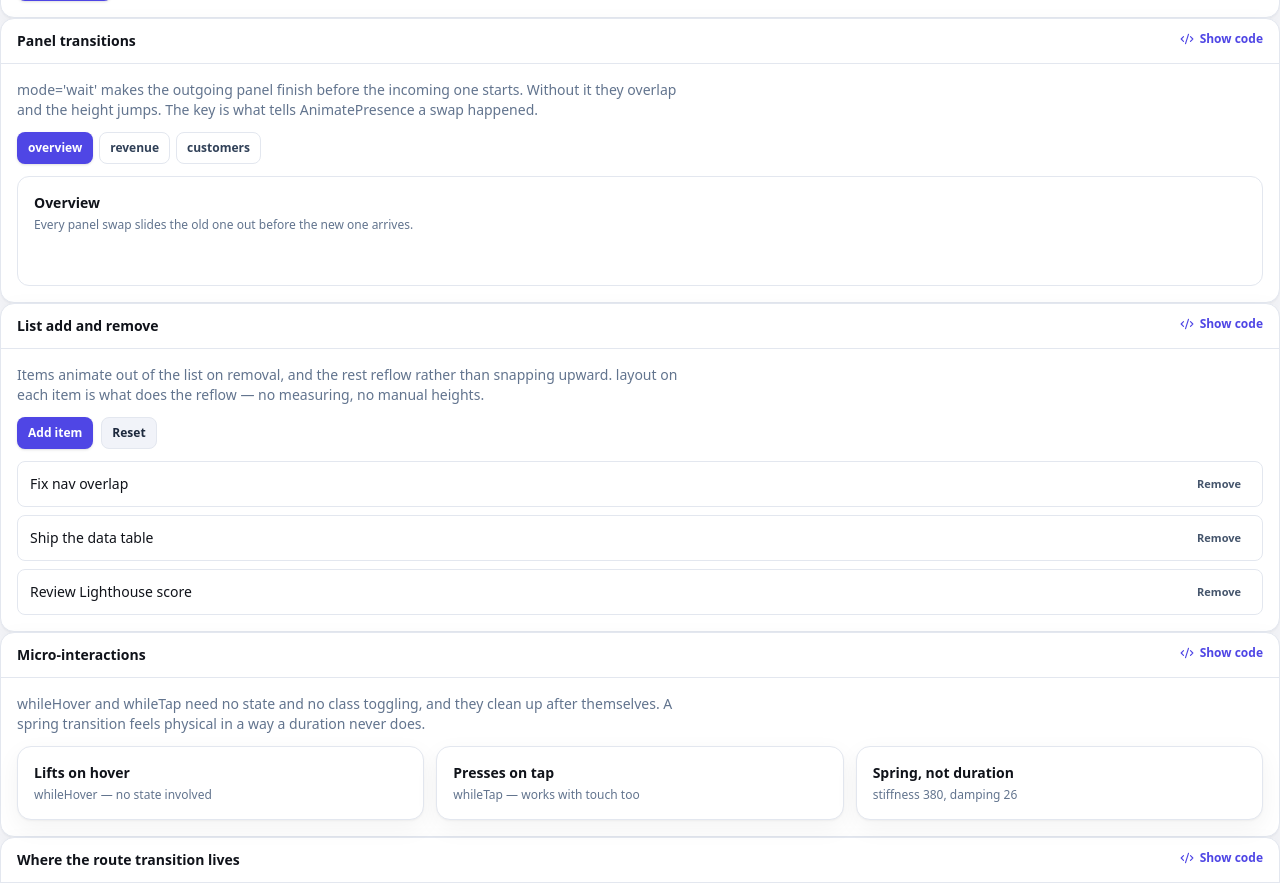
Test: task 11 — framer motion › adds and removes list items
The width and height of the screenshot is (1280, 883).
(page scrolled)
Expected: the text "Fix nav overlap" is shown, x1=30 y1=474 x2=128 y2=493
Click the button "Add item": (55,433) x1=17 y1=417 x2=93 y2=449
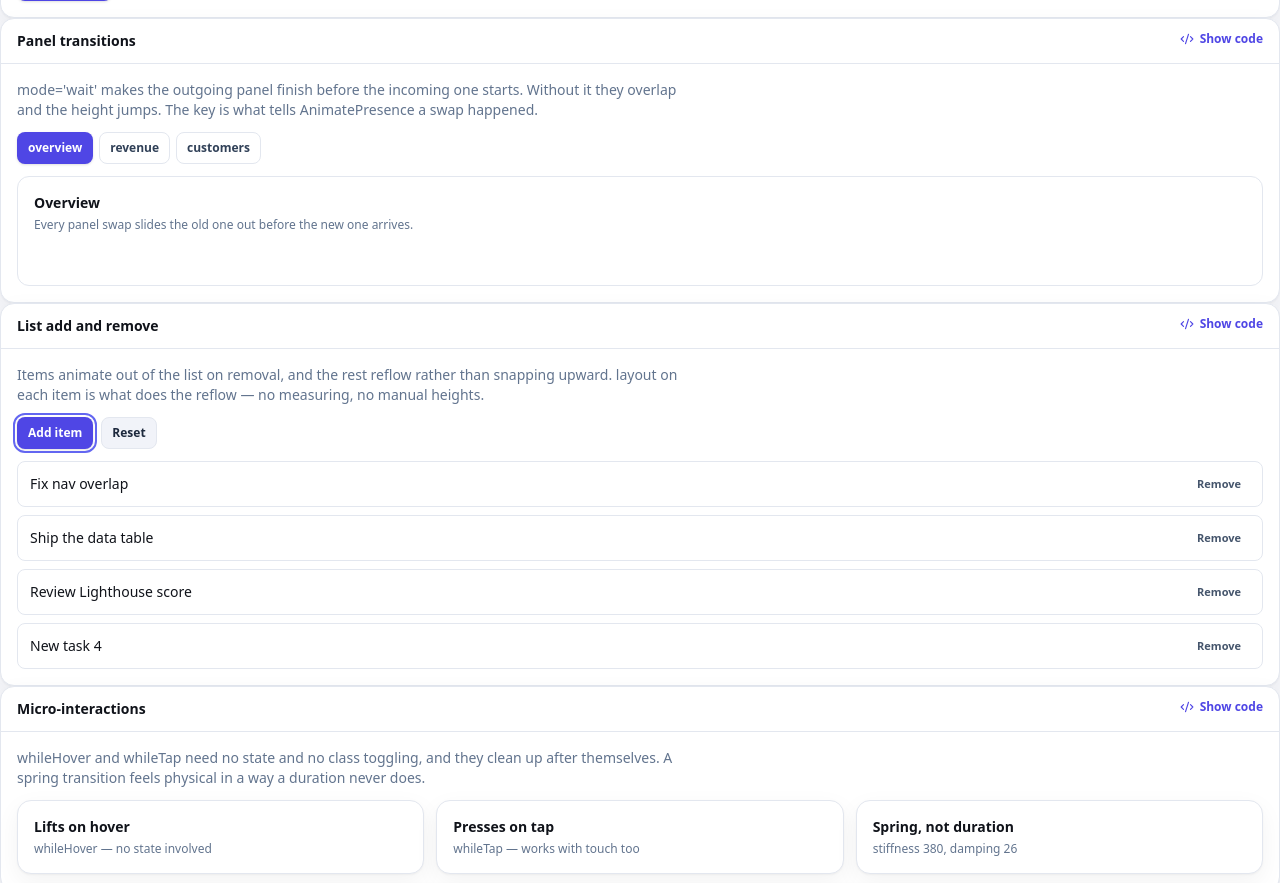
Result: the text "New task 4" is shown at x1=30 y1=636 x2=102 y2=655
